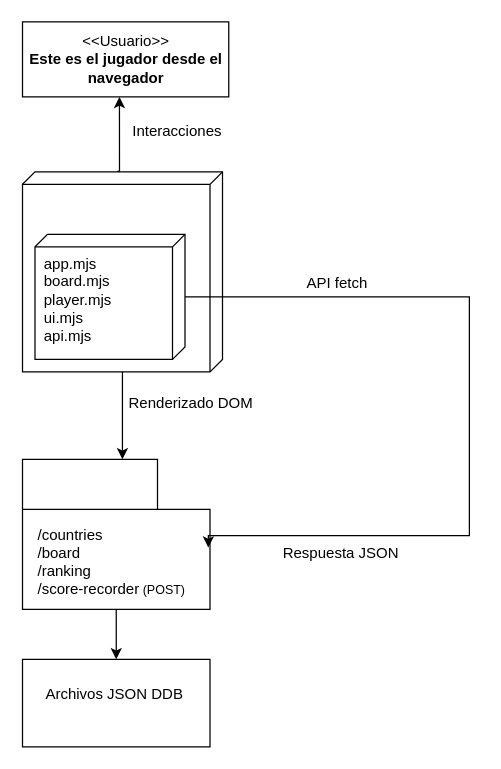
Image size: 501x769. Some labels were removed from this diagram. Each missing label, with the box of its shape:
Backend Flask cors: (21, 458, 210, 609)
Frontend (HTML, CSS, JS): (21, 171, 222, 372)
